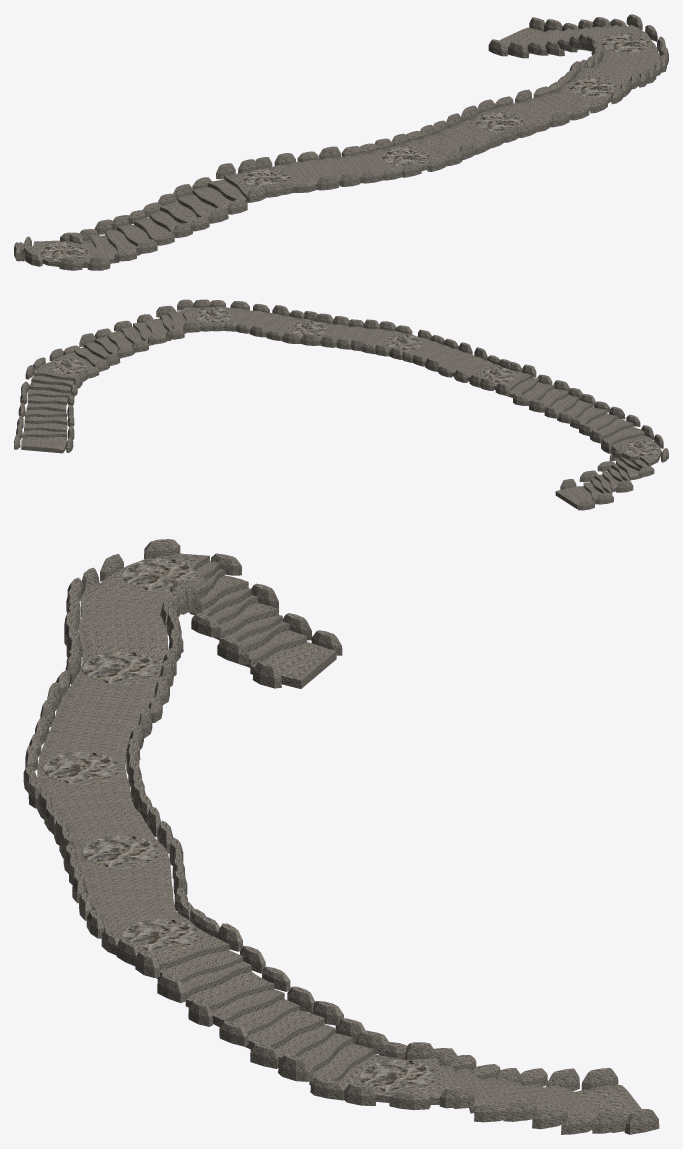
File: high_walk.glb
3 renders of one model, top to bottom at view 1: azimuth 30°, elevation 25°; view 2: azimuth 150°, elevation 25°; view 3: azimuth 270°, elevation 25°, orthographic. The views are drawn at different scales.
Visible parts, largest first — view 1: high_walk0; view 2: high_walk0; view 3: high_walk0.
Boxes of the visible parts, <box> form: high_walk0: <box>14,14,668,270</box>; high_walk0: <box>14,299,668,510</box>; high_walk0: <box>23,539,659,1134</box>.
Size of the model in its own units: 33.27 by 3.79 by 16.07.
1 material, 1 textured.
